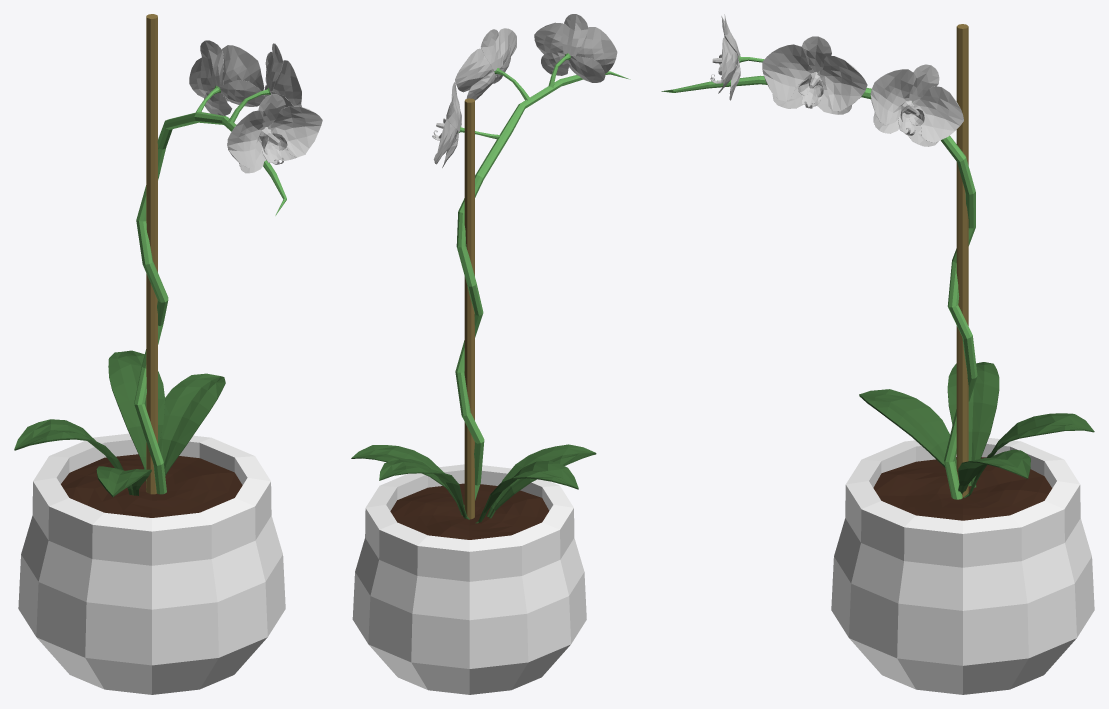
File: orchid.gltf
3 renders of one model, left to right at view 1: azimuth 30°, elevation 25°; view 2: azimuth 150°, elevation 25°; view 3: azimuth 270°, elevation 25°, orthographic. The views are drawn at different scales.
Visible parts, largest first — view 1: node-0; view 2: node-0; view 3: node-0.
Part boxes in pixels (x1,y1,x2,y2): node-0: (14, 14, 322, 694); node-0: (351, 14, 630, 694); node-0: (661, 14, 1094, 694).
Bounding box in the file's own units: 3.17 × 8 × 4.9.
